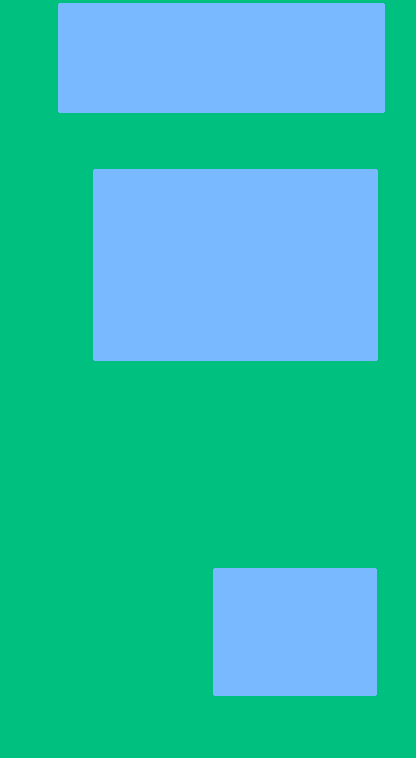Text_area: (94, 170, 376, 359), (59, 4, 383, 111), (214, 569, 375, 694)
